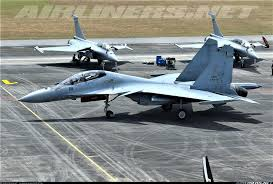maybay_muctieu: (32, 51, 245, 124), (33, 18, 132, 69), (188, 16, 262, 62)
